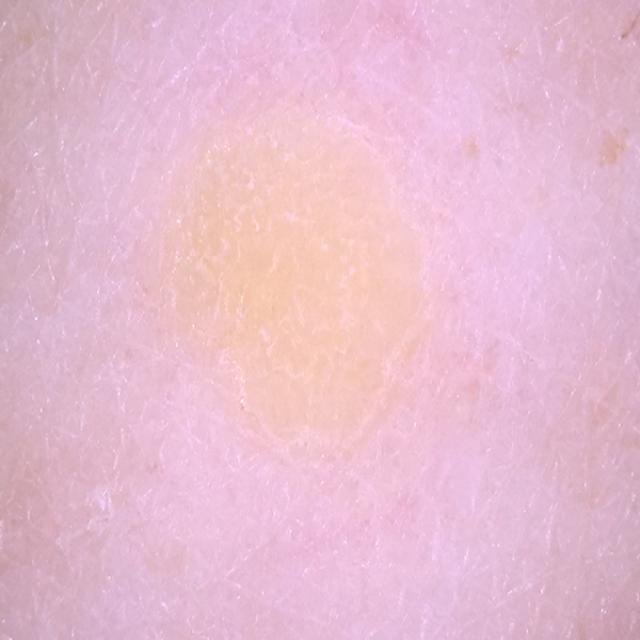Skin-Cancer Pigmented benign keratosis: (6, 19, 598, 594)
